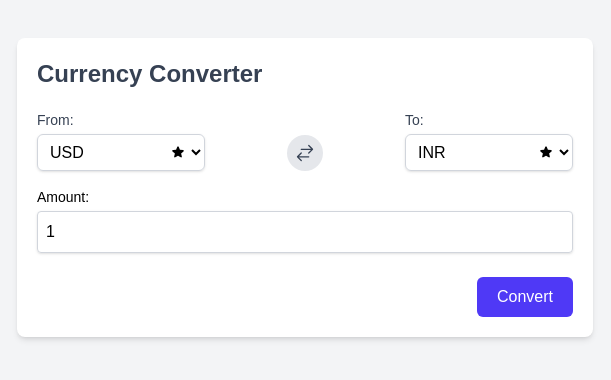
it: Currency Converter App › converts currency and displays result
Click the button "Convert" at (525, 297), box [477,277,573,317]
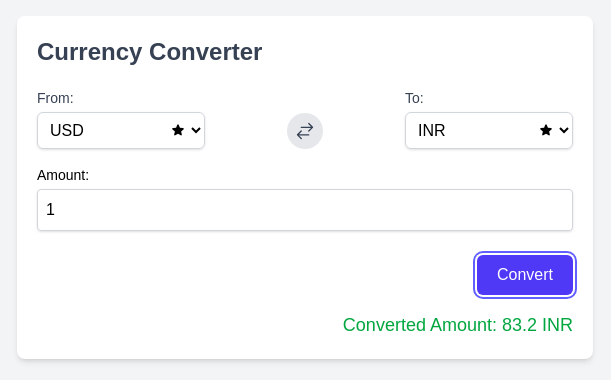
Expected: the text "Converted Amount: 83.2 INR" is shown, [343,314,573,334]
